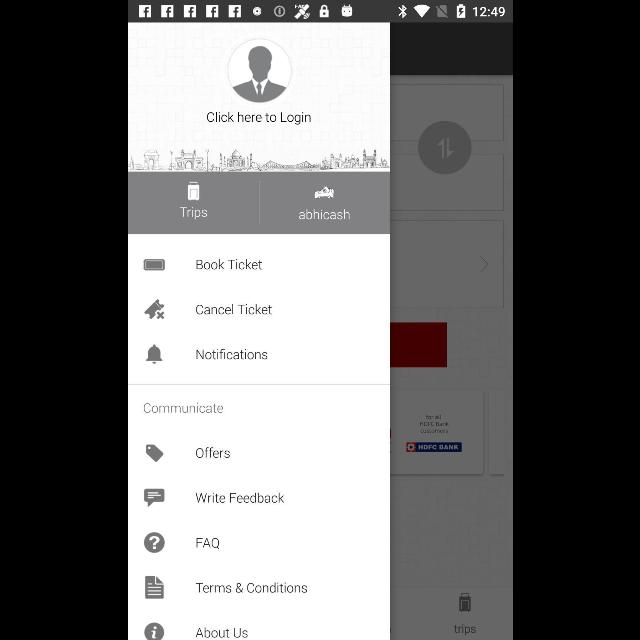icon: (226, 39, 292, 103), (144, 576, 164, 598), (144, 532, 164, 554), (144, 299, 164, 319), (144, 622, 164, 640), (144, 489, 164, 507), (145, 444, 163, 462), (146, 344, 162, 364)
image: (314, 186, 334, 200), (143, 259, 165, 271), (187, 181, 200, 201)
panel: (128, 22, 388, 640)
text: (206, 111, 310, 125), (195, 582, 307, 594), (194, 492, 284, 503), (143, 402, 223, 413), (195, 348, 267, 359), (195, 304, 271, 314), (196, 260, 262, 270), (298, 208, 349, 220), (195, 628, 248, 638), (195, 448, 229, 458), (179, 208, 207, 220), (196, 538, 218, 550)
uppertaskbar: (128, 1, 512, 23)
